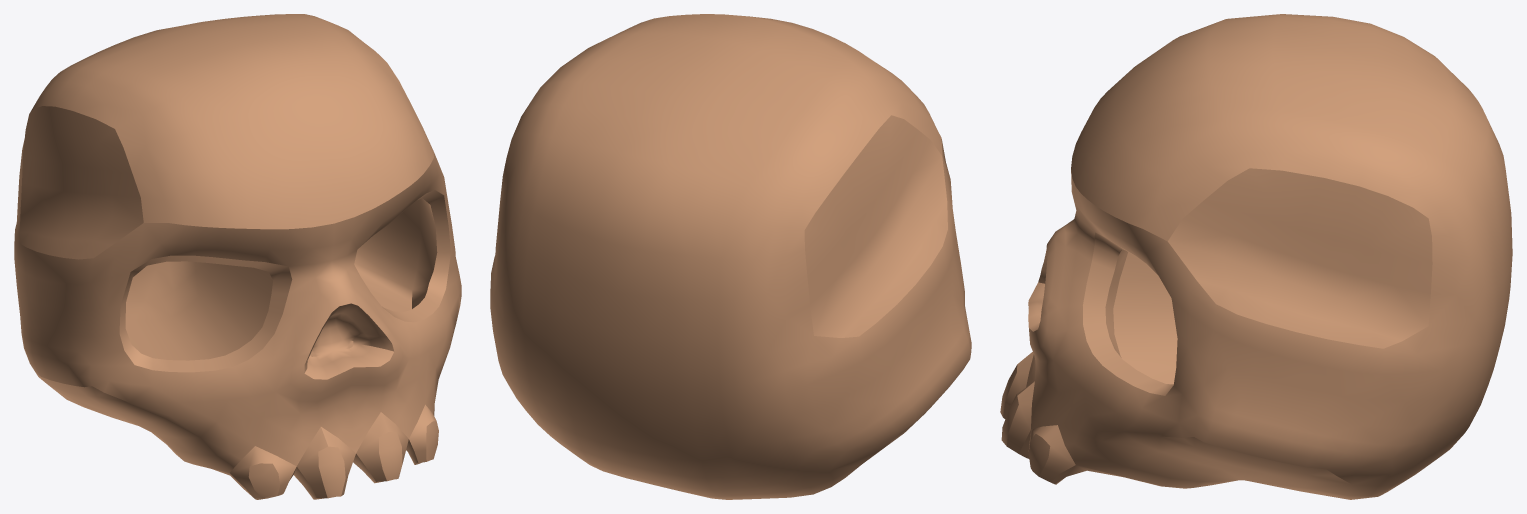
Rendered from Environment_Skulls.glb.
3 views of the same model, side by side, from view 1: azimuth 30°, elevation 25°; view 2: azimuth 150°, elevation 25°; view 3: azimuth 270°, elevation 25° (orthographic). The views are drawn at different scales.
Parts seen in each view (by area): view 1: Environment_Skulls; view 2: Environment_Skulls; view 3: Environment_Skulls.
Boxes of the visible parts, <box> form: Environment_Skulls: <box>14,14,461,499</box>; Environment_Skulls: <box>490,14,971,499</box>; Environment_Skulls: <box>1000,14,1512,499</box>.
Bounding box in the file's own units: 4.14 × 3.81 × 4.44.
1 material, 1 textured.
